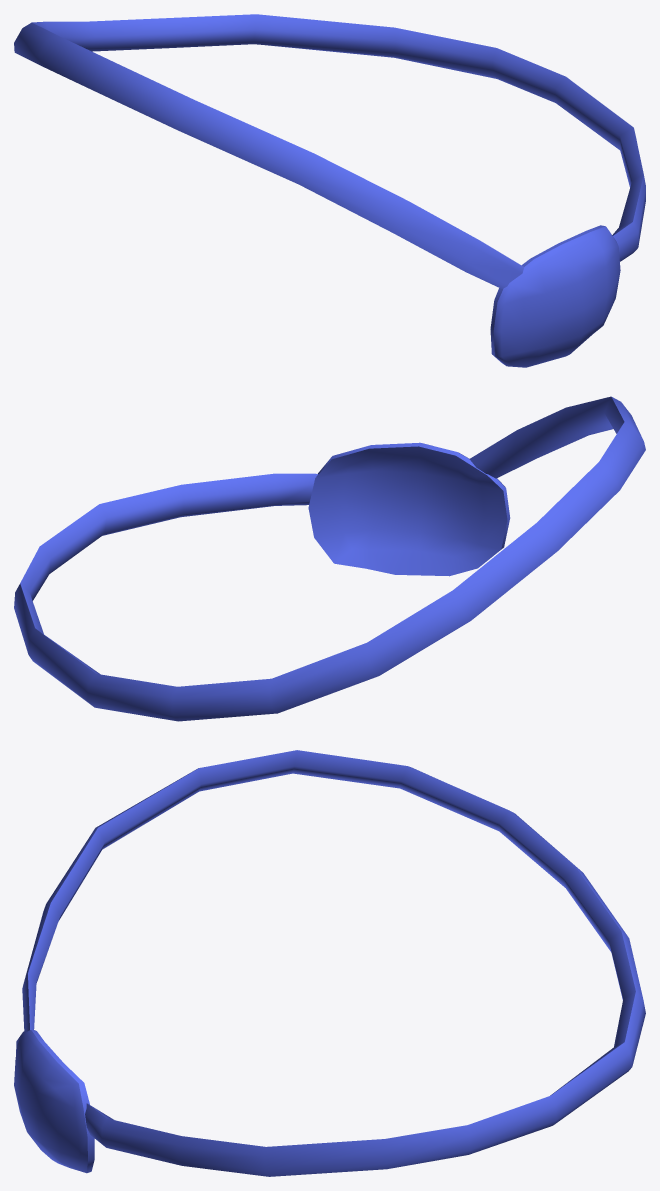
File: Mask_05_03.fbx
3 renders of one model, top to bottom at view 1: azimuth 30°, elevation 25°; view 2: azimuth 150°, elevation 25°; view 3: azimuth 270°, elevation 25°, orthographic. The views are drawn at different scales.
Visible parts, largest first — view 1: Mask_05_03; view 2: Mask_05_03; view 3: Mask_05_03.
Boxes of the visible parts, <box> form: Mask_05_03: <box>14,14,645,367</box>; Mask_05_03: <box>14,396,645,721</box>; Mask_05_03: <box>14,750,645,1176</box>.
Bounding box in the file's own units: 34.72 × 17.78 × 38.55.
